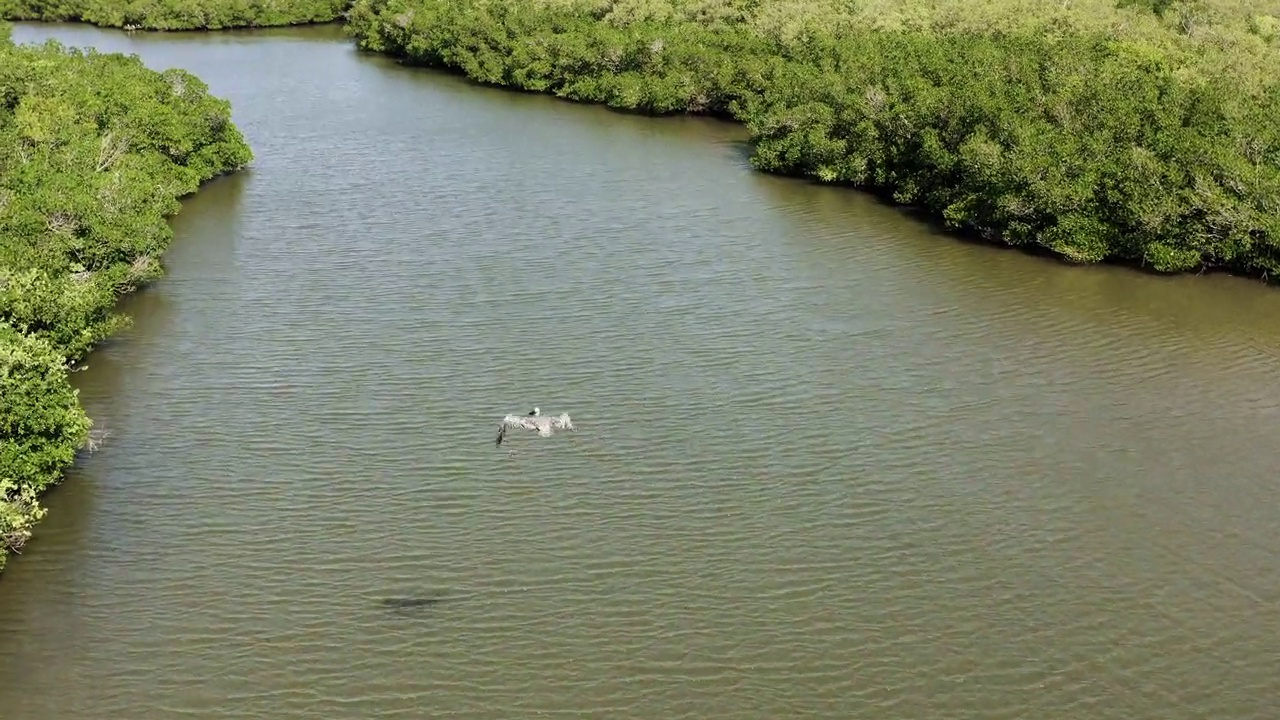bird: (495, 403, 572, 444)
